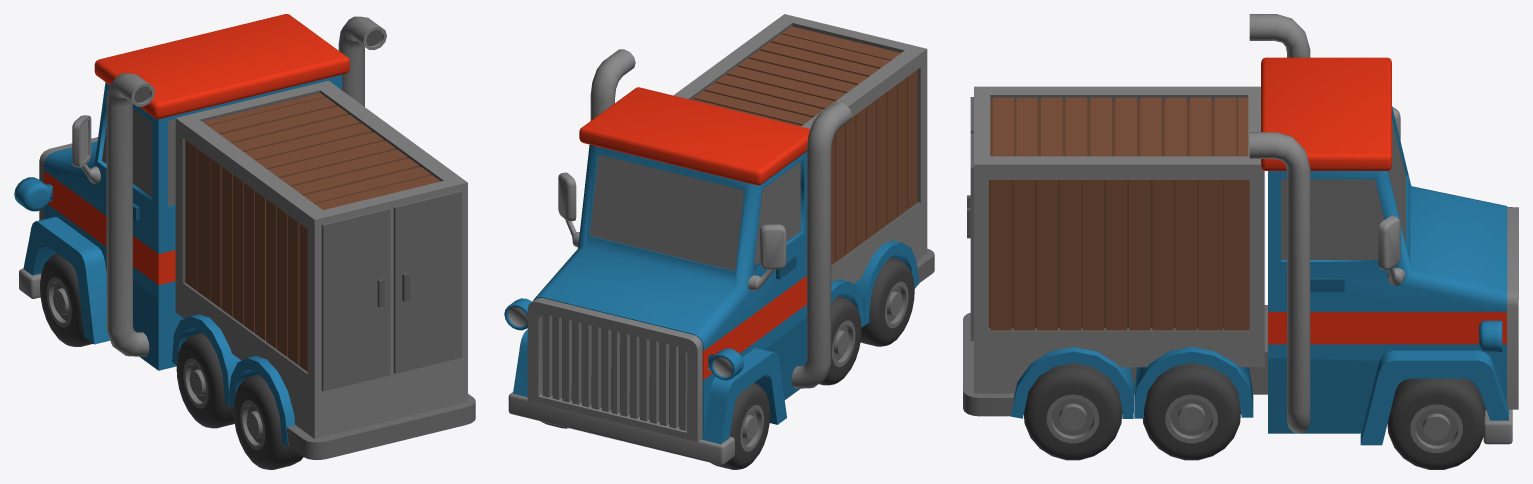
File: Vehicle1.fbx
The picture shows the model from 3 angles, left to right: view 1: azimuth 30°, elevation 25°; view 2: azimuth 150°, elevation 25°; view 3: azimuth 270°, elevation 25°; orthographic projection. The views are drawn at different scales.
Visible parts, largest first — view 1: Cube.053, Cylinder.055, Cylinder.054, Cylinder.059; view 2: Cube.053, Cylinder.055, Cylinder.059, Cylinder.054; view 3: Cube.053, Cylinder.059, Cylinder.055, Cylinder.054.
Part boxes in pixels (box(x1,y1,x2,y2)): Cube.053: box(14, 14, 475, 459); Cylinder.055: box(233, 374, 303, 469); Cylinder.054: box(176, 332, 234, 428); Cylinder.059: box(40, 253, 92, 346); Cube.053: box(504, 14, 934, 465); Cylinder.055: box(860, 257, 914, 346); Cylinder.059: box(540, 382, 770, 469); Cylinder.054: box(819, 296, 861, 385); Cube.053: box(963, 14, 1518, 445); Cylinder.059: box(1387, 378, 1485, 469); Cylinder.055: box(1023, 363, 1122, 460); Cylinder.054: box(1143, 363, 1240, 460).
Size of the model in its own units: 6.25 by 11.27 by 7.69.
